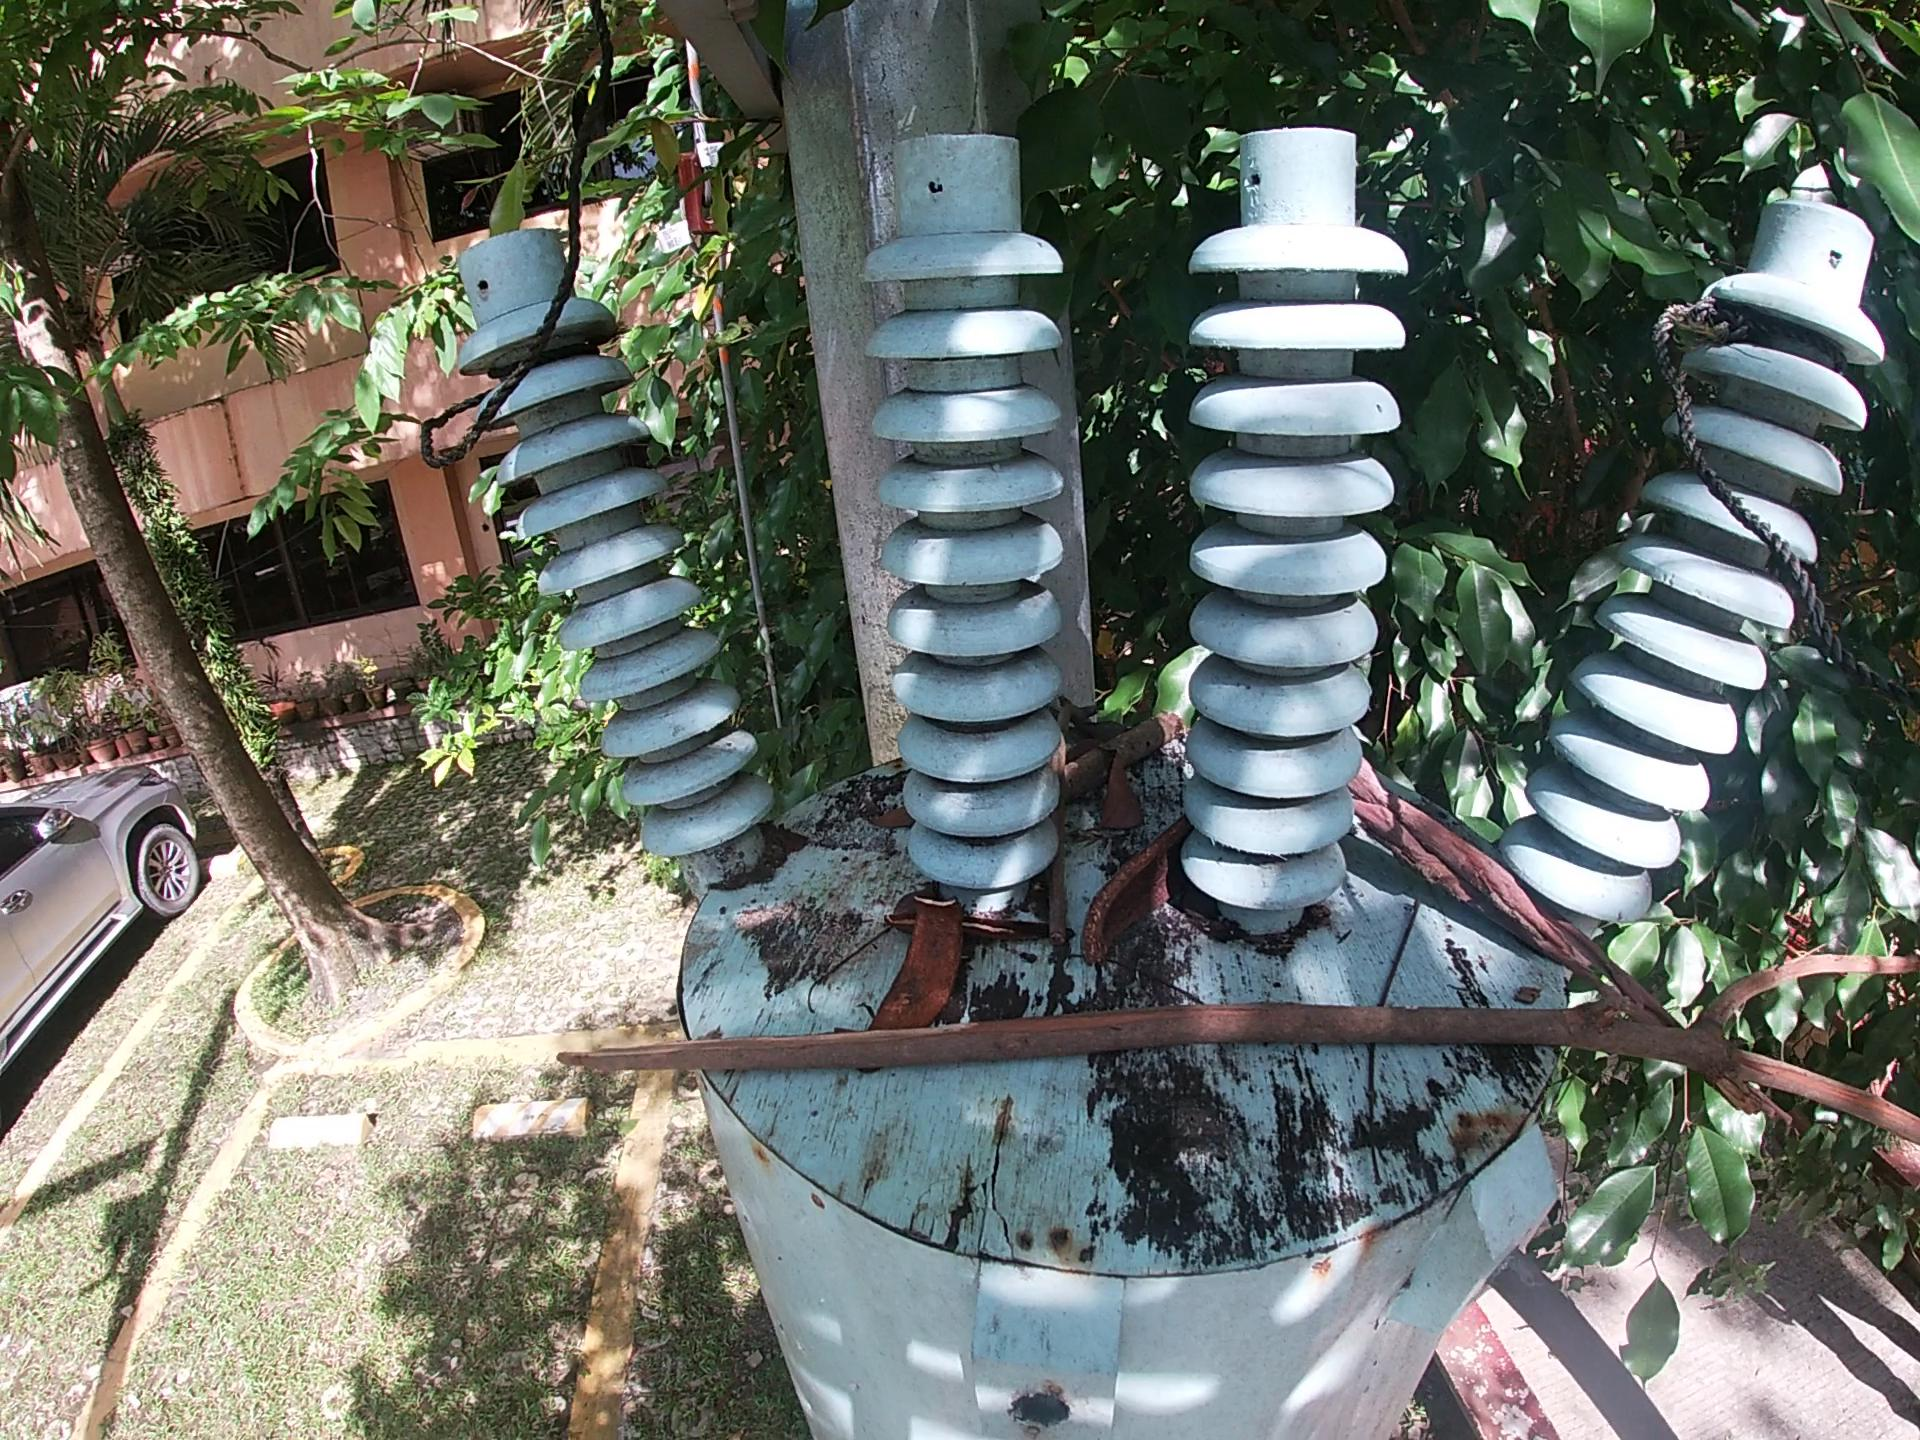leaf: (1084, 756, 1141, 843), (889, 882, 918, 932), (878, 808, 912, 830)
tree branch: (481, 942, 1920, 1162), (1352, 759, 1695, 1027), (1367, 882, 1423, 1201), (1054, 714, 1178, 809), (786, 920, 886, 1019), (1046, 808, 1067, 932), (963, 908, 1031, 933)
